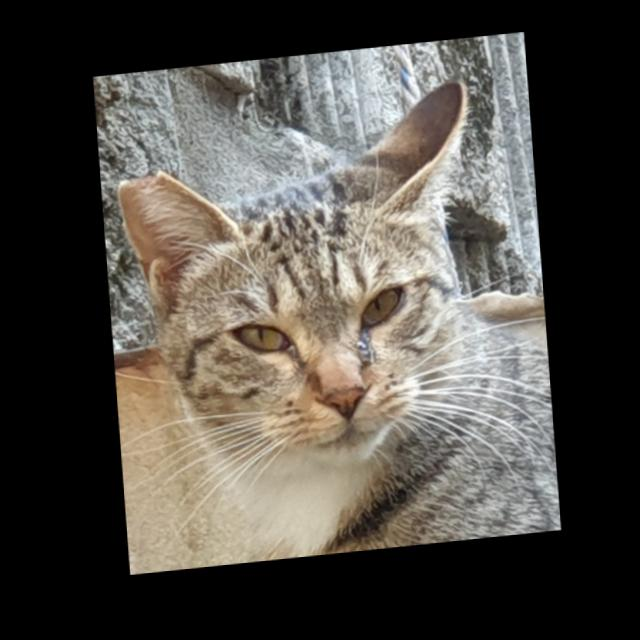animals: (108, 66, 516, 500)
